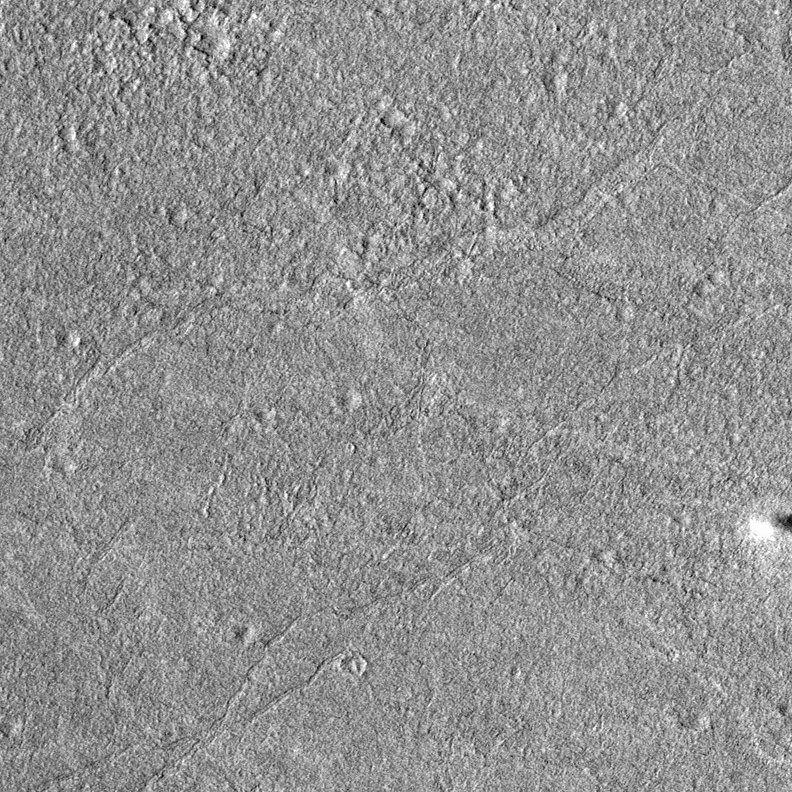dust_devil: (746, 506, 792, 543)
